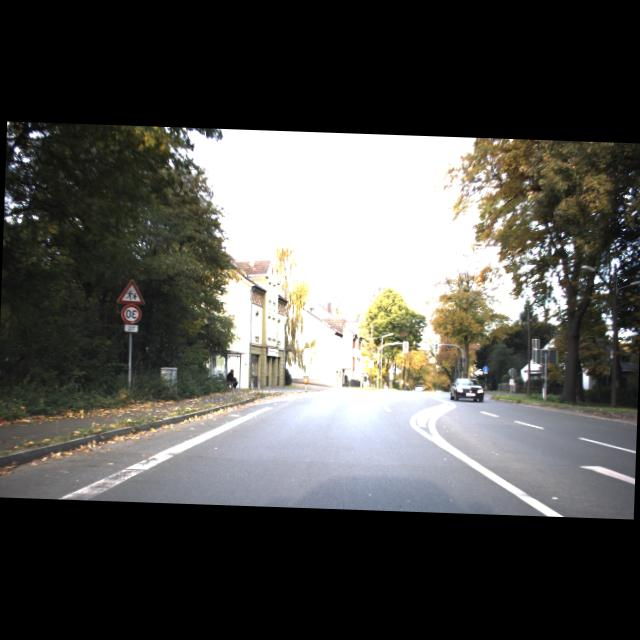danger: (116, 278, 146, 305)
prohibitory: (120, 303, 142, 324)
